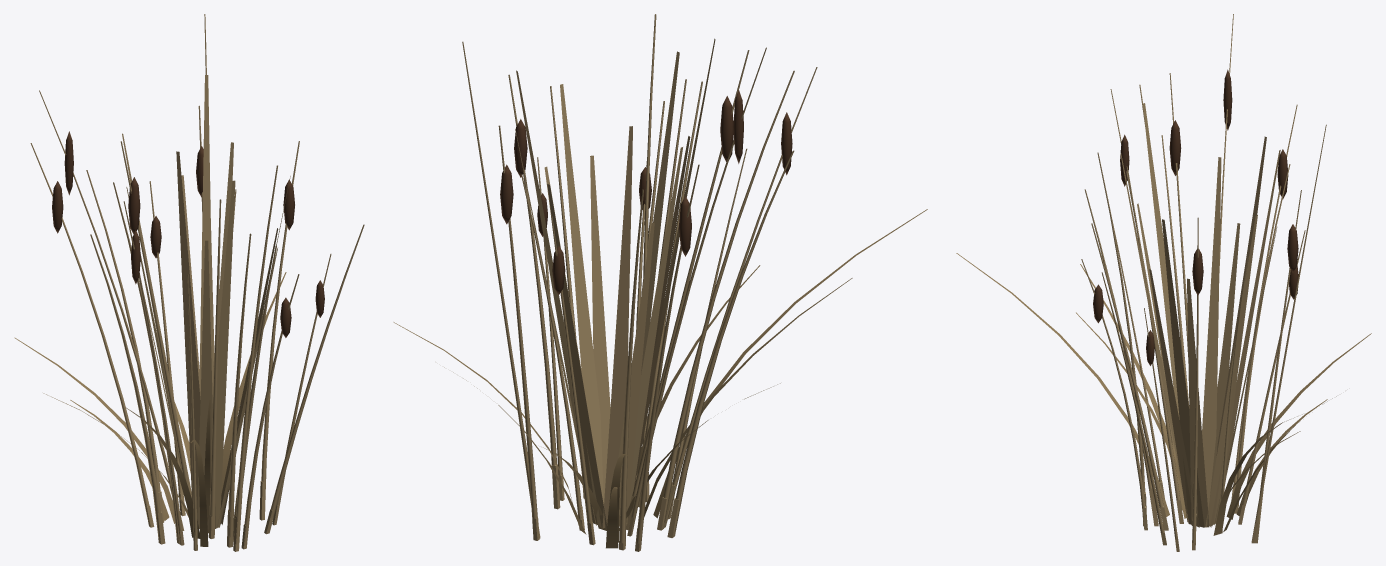
The model's file is reed_clump_3.glb.
3 renders of one model, left to right at view 1: azimuth 30°, elevation 25°; view 2: azimuth 150°, elevation 25°; view 3: azimuth 270°, elevation 25°, orthographic. The views are drawn at different scales.
Visible parts, largest first — view 1: ReedClump_Far, ReedClump_Stalks_0, ReedClump_Stalks_2, ReedClump_Stalks_1, ReedClump_Blades_2, ReedClump_StubbleStalks, ReedClump_Blades_1, ReedClump_Heads_0, ReedClump_Heads_1, ReedClump_Heads_2, ReedClump_Blades_0; view 2: ReedClump_Far, ReedClump_Stalks_1, ReedClump_Stalks_2, ReedClump_Stalks_0, ReedClump_Blades_2, ReedClump_StubbleStalks, ReedClump_Heads_2, ReedClump_Heads_0, ReedClump_Heads_1, ReedClump_Blades_0, ReedClump_Blades_1; view 3: ReedClump_Far, ReedClump_Stalks_1, ReedClump_Stalks_0, ReedClump_Stalks_2, ReedClump_Blades_2, ReedClump_Blades_0, ReedClump_Heads_0, ReedClump_StubbleStalks, ReedClump_Heads_2, ReedClump_Blades_1, ReedClump_Heads_1.
Part boxes in pixels (left/top/right/bottom): ReedClump_Far: left=122, top=75, right=290, bottom=529; ReedClump_Stalks_0: left=39, top=90, right=299, bottom=545; ReedClump_Stalks_2: left=90, top=105, right=364, bottom=539; ReedClump_Stalks_1: left=30, top=14, right=331, bottom=537; ReedClump_Blades_2: left=125, top=401, right=208, bottom=546; ReedClump_StubbleStalks: left=146, top=481, right=279, bottom=551; ReedClump_Blades_1: left=43, top=272, right=286, bottom=533; ReedClump_Heads_0: left=64, top=131, right=291, bottom=337; ReedClump_Heads_1: left=52, top=181, right=324, bottom=317; ReedClump_Heads_2: left=150, top=146, right=294, bottom=258; ReedClump_Blades_0: left=14, top=337, right=174, bottom=523; ReedClump_Far: left=515, top=38, right=715, bottom=528; ReedClump_Stalks_1: left=462, top=41, right=817, bottom=545; ReedClump_Stalks_2: left=498, top=74, right=794, bottom=531; ReedClump_Stalks_0: left=631, top=14, right=794, bottom=530; ReedClump_Blades_2: left=543, top=209, right=927, bottom=530; ReedClump_StubbleStalks: left=532, top=464, right=678, bottom=551; ReedClump_Heads_2: left=500, top=119, right=565, bottom=294; ReedClump_Heads_0: left=639, top=90, right=743, bottom=209; ReedClump_Heads_1: left=537, top=112, right=792, bottom=256; ReedClump_Blades_0: left=444, top=367, right=627, bottom=548; ReedClump_Blades_1: left=393, top=265, right=780, bottom=530; ReedClump_Far: left=1120, top=103, right=1280, bottom=527; ReedClump_Stalks_1: left=1110, top=89, right=1326, bottom=538; ReedClump_Stalks_0: left=1081, top=14, right=1233, bottom=521; ReedClump_Stalks_2: left=1084, top=135, right=1305, bottom=542; ReedClump_Blades_2: left=956, top=253, right=1300, bottom=527; ReedClump_Blades_0: left=1223, top=333, right=1371, bottom=531; ReedClump_Heads_0: left=1093, top=69, right=1232, bottom=323; ReedClump_StubbleStalks: left=1142, top=481, right=1259, bottom=551; ReedClump_Heads_2: left=1192, top=224, right=1298, bottom=299; ReedClump_Blades_1: left=1076, top=312, right=1302, bottom=535; ReedClump_Heads_1: left=1120, top=134, right=1288, bottom=365.
Bounding box in the file's own units: 1.23 × 1.87 × 1.59.
